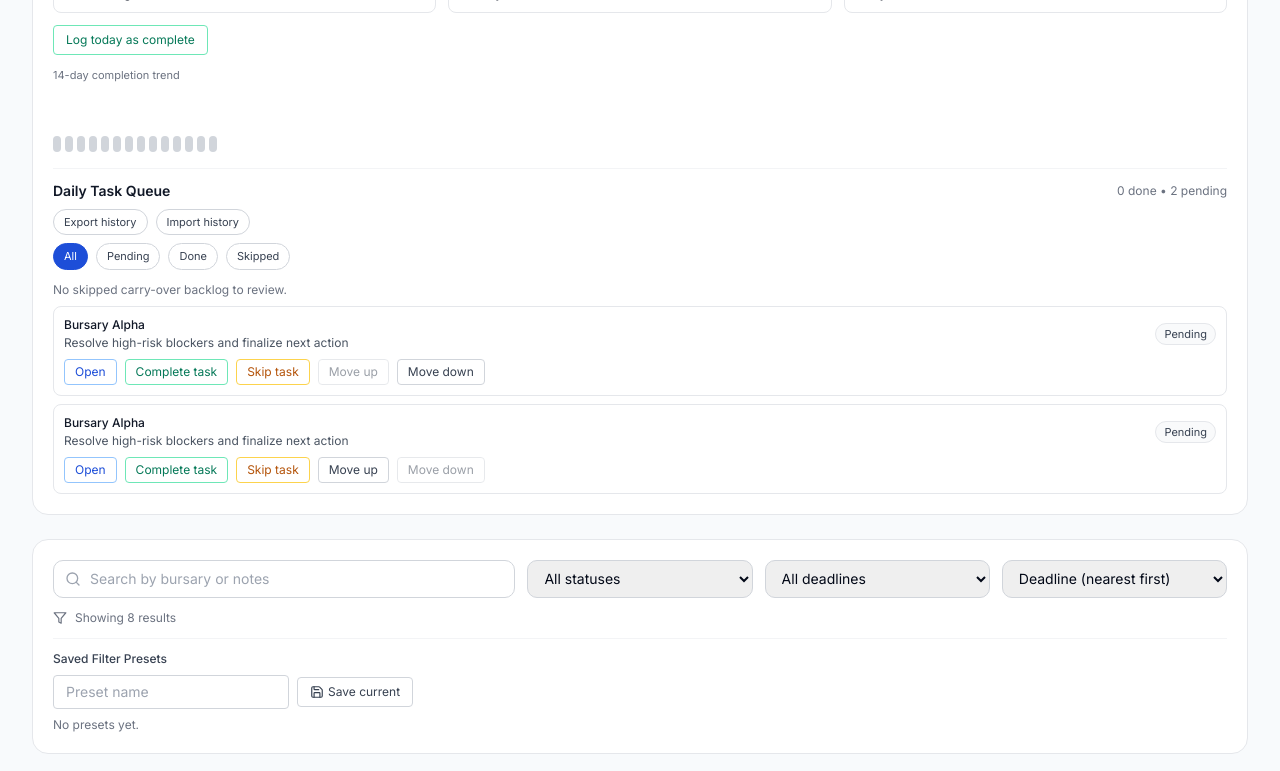
Test: ApplicationTracker phase 2.5 interactions › builds a daily task queue and records complete or skip actions
The image size is (1280, 771).
(page scrolled)
Expected: the heading "Daily Task Queue" is shown, [53,180,170,200]
Expected: the 1st button "Skip task" is shown, [236,358,310,384]
What coordinates should you click on to do the following:
click the 1st button "Complete task"
I would click on:
 (176, 372)
Its box is [125,358,228,384].
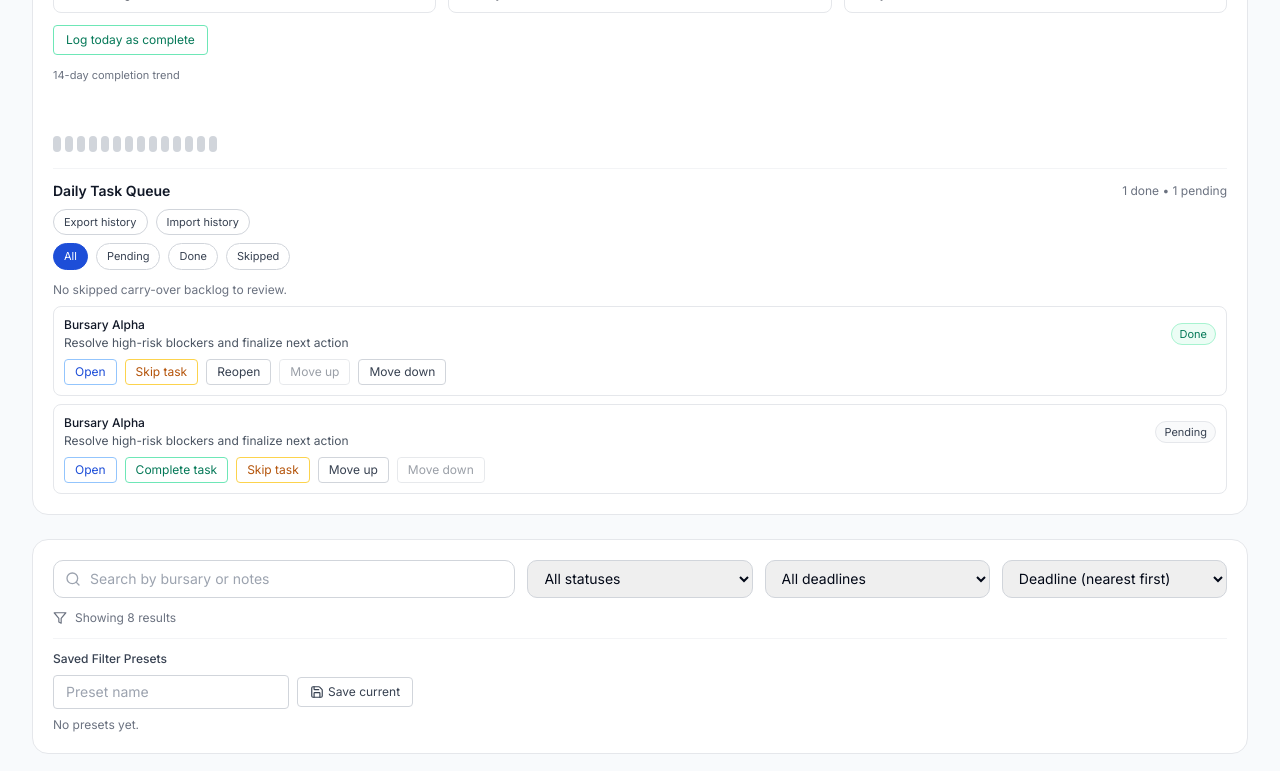
What coordinates should you click on to do the following:
click the 1st button "Skip task"
I would click on:
 (161, 372)
Its box is [125,358,198,384].
(page scrolled)
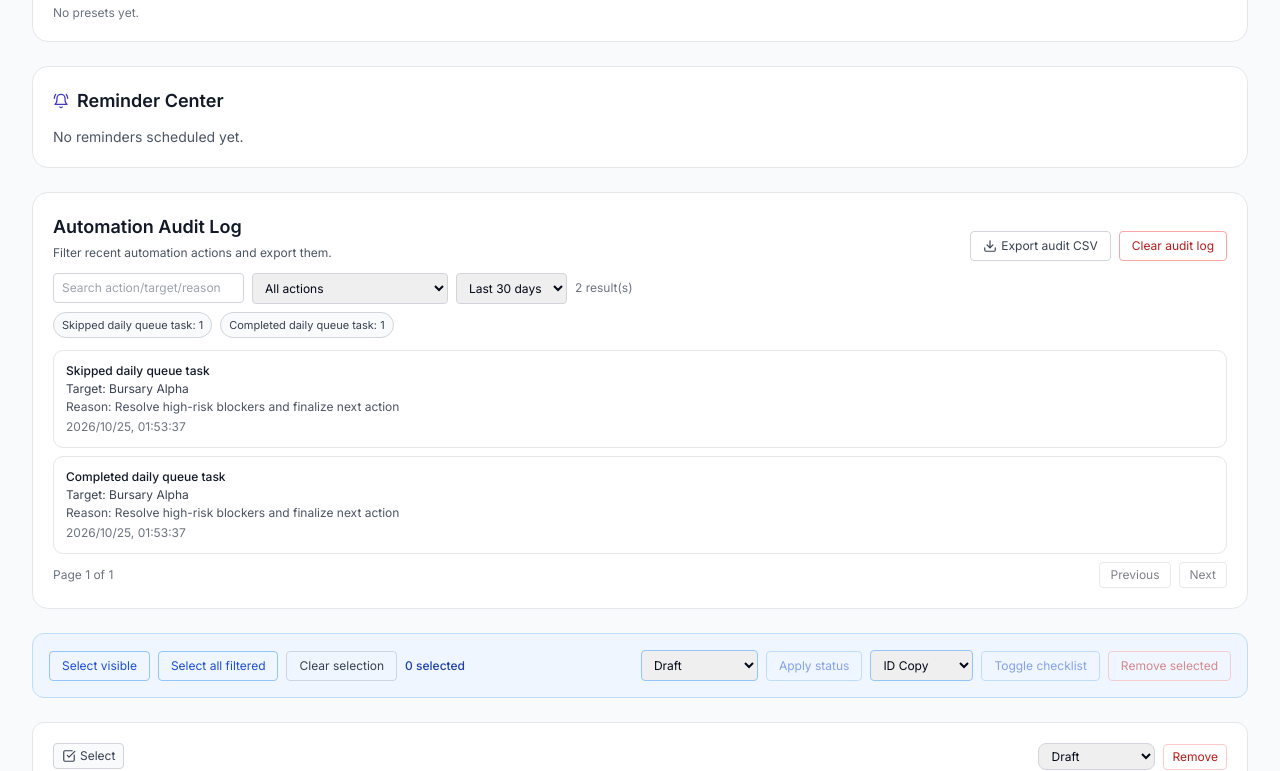
Expected: the text "Skipped daily queue task" is shown, [66,363,210,378]
